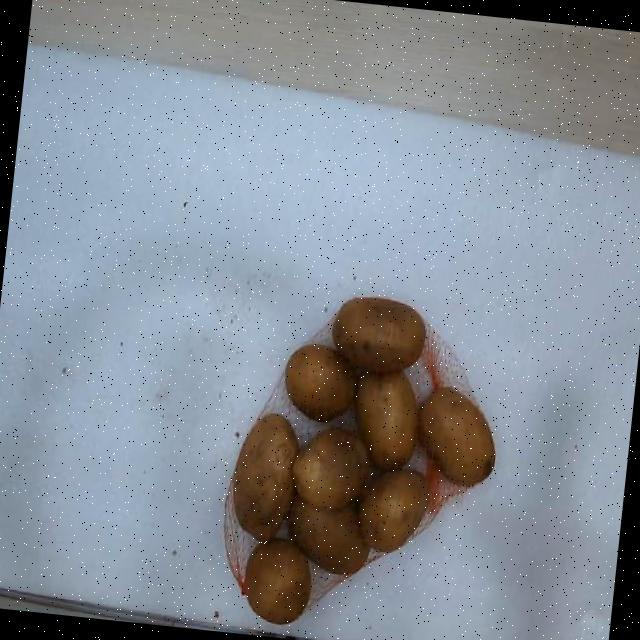potato: (231, 413, 299, 539), (418, 387, 495, 486), (331, 296, 426, 372), (292, 427, 369, 508), (357, 372, 418, 470), (290, 499, 369, 573), (358, 469, 429, 551), (243, 540, 311, 624), (285, 344, 356, 422)
